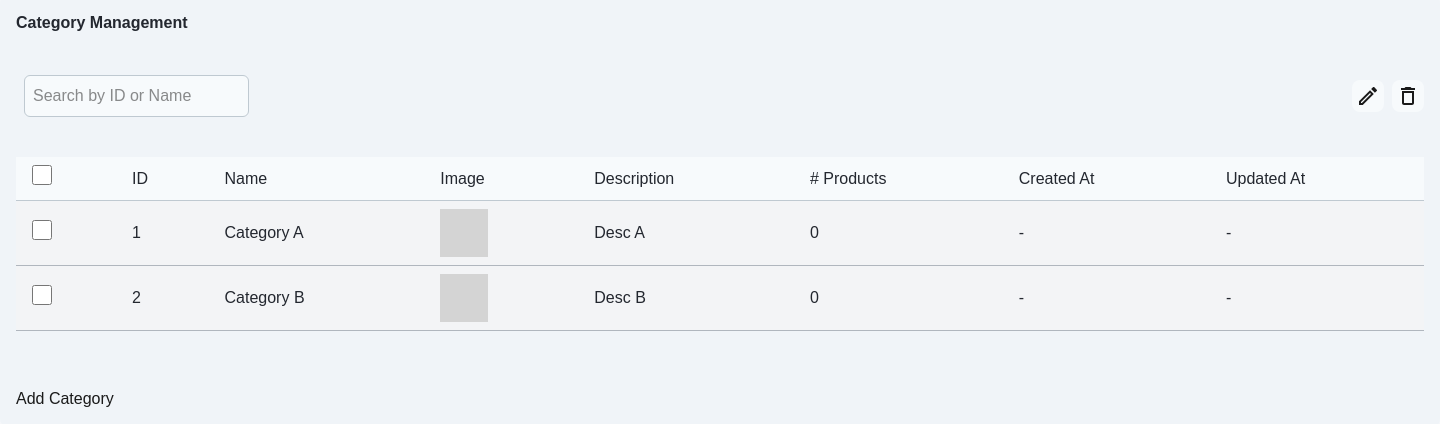
Test: CategoryTable › shows alert if trying to edit with nothing selected
Click the button titled "edit selected category". click: point(1368, 96)
box: [1352,80,1384,112]
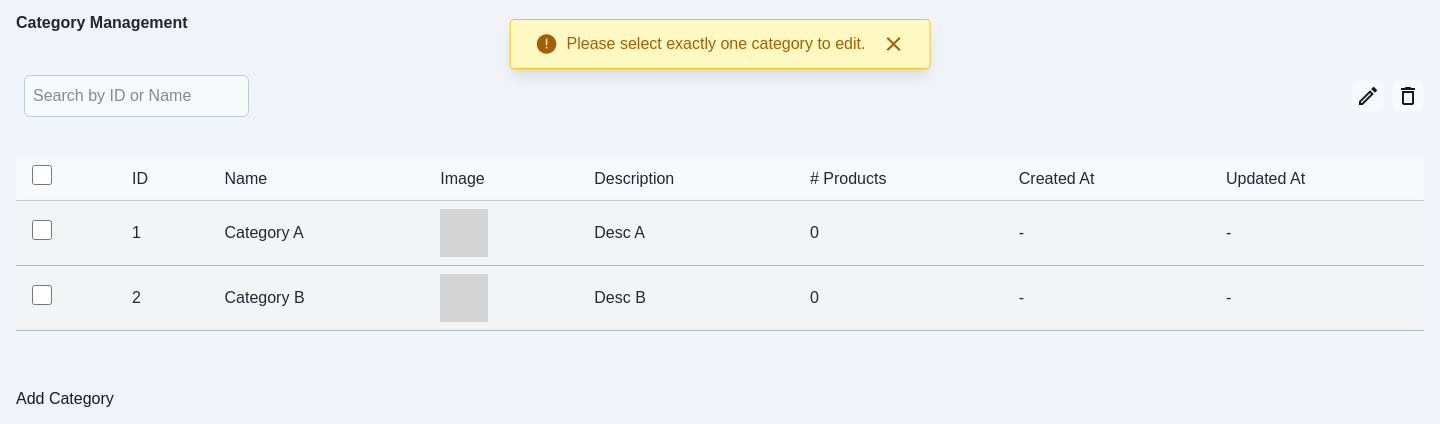
Now the text "Please select exactly one category to edit." is shown, box [567,32,865,56]
